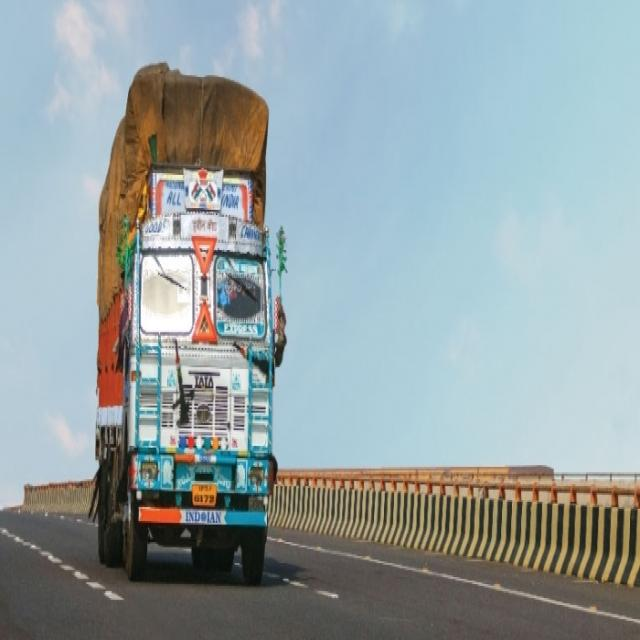truck: (95, 62, 286, 583)
